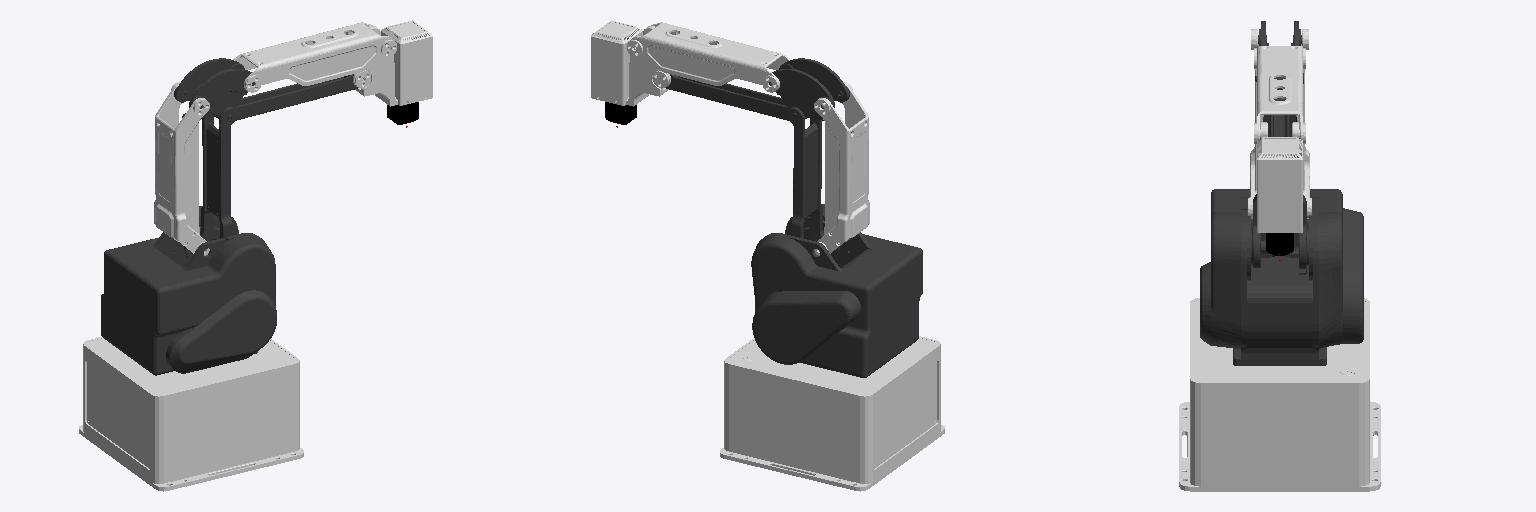
URDF robot description (mg400):
<?xml version="1.0" encoding="utf-8"?>
<!-- This URDF was automatically created by SolidWorks to URDF Exporter! Originally created by [author] ([email redacted]) 
     Commit Version: 1.6.0-1-g15f4949  Build Version: 1.6.7594.29634
     For more information, please see http://wiki.ros.org/sw_urdf_exporter -->
<robot name="mg400">
  <material name="TransparentRed">
    <color rgba="0.9 0 0.2 0.5"/>
  </material>
  <!-- Colors -->
  <material name="DarkGrey">
    <color rgba="0.3 0.3 0.3 1.0"/>
  </material>
  <material name="Grey">
    <color rgba="0.4 0.4 0.4 1.0"/>
  </material>
  <material name="Orange">
    <color rgba="1.0 0.423529411765 0.0392156862745 1.0"/>
  </material>
  <material name="Blue">
    <color rgba="0 0.1 1.0 1.0"/>
  </material>
  <material name="LightGrey">
    <color rgba="0.9 0.9 0.9 1.0"/>
  </material>
  <material name="Red">
    <color rgba="0.9 0 0.2 1.0"/>
  </material>
  <material name="TransparentRed">
    <color rgba="0.9 0 0.2 0.5"/>
  </material>
  <material name="Green">
    <color rgba="0 0.9 0.5 1.0"/>
  </material>
  <material name="Yellow">
    <color rgba="0.7 0.7 0 1.0"/>
  </material>
  <material name="LightBlue">
    <color rgba="0. 0.3 1.0 1.0"/>
  </material>
  <material name="Black">
    <color rgba="0.05 0.05 0.05 1.0"/>
  </material>
  <material name="White">
    <color rgba="1.0 1.0 1.0 1.0" />
  </material>

  
    <link name="base_link">
        <inertial>
            <origin xyz="0.000600637001378879 -2.53487071137343E-07 0.0560927888040551" rpy="0 0 0"/>
            <mass value="3.62164811695094"/>
            <inertia
                    ixx="0.0126582175296405"
                    ixy="6.66832041405407E-08"
                    ixz="-3.52548281362717E-06"
                    iyy="0.0145891535260188"
                    iyz="5.15901657460475E-08"
                    izz="0.0195045116656827"/>
        </inertial>
        <visual>
            <origin xyz="0 0 0" rpy="0 0 0"/>
            <geometry>
                <mesh filename="package://mg400/meshes/base_link.STL"/>
            </geometry>
            <material name="LightGrey"/>

        </visual>
        <collision>
            <origin xyz="0 0 0" rpy="0 0 0"/>
            <geometry>
                <mesh filename="package://mg400/meshes/base_link.STL"/>
            </geometry>
        </collision>
    </link>

    <link name="link1">
        <inertial>
            <origin xyz="-0.0046209286967387 -6.88107982318643E-05 0.0709919358465827" rpy="0 0 0"/>
            <mass value="1.77056222753813"/>
            <inertia
                    ixx="0.00605885293080088"
                    ixy="0.000156081820035162"
                    ixz="-0.00021785654850453"
                    iyy="0.00579381982249127"
                    iyz="6.20876898015621E-05"
                    izz="0.00741058257251941"/>
        </inertial>
        <visual>
            <origin xyz="0 0 0" rpy="0 0 0"/>
            <geometry>
                <mesh filename="package://mg400/meshes/link1.STL"/>
            </geometry>
            <material name="DarkGrey"/>
        </visual>
        <collision>
            <origin xyz="0 0 0" rpy="0 0 0"/>
            <geometry>
                <mesh filename="package://mg400/meshes/link1.STL"/>
            </geometry>
        </collision>
    </link>

    <joint name="j1" type="revolute">
        <origin xyz="-0.00500000000000002 0 0.109" rpy="0 0 0"/>
        <parent link="base_link"/>
        <child link="link1"/>
        <axis xyz="0 0 1"/>
        <limit lower="-3.14" upper="3.14" effort="0" velocity="0"/>
    </joint>

    <link name="link2_1">
        <inertial>
            <origin xyz="-0.00321788524756698 0.0352926570826593 0.0596131328734945" rpy="0 0 0"/>
            <mass value="0.0866115884541459"/>
            <inertia
                    ixx="0.000338551627157209"
                    ixy="-2.78858228577314E-09"
                    ixz="1.05212346076681E-05"
                    iyy="0.000307789653713489"
                    iyz="-1.36109590152488E-06"
                    izz="3.89949940178023E-05"/>
        </inertial>
        <visual>
            <origin xyz="0 0 0" rpy="0 0 0"/>
            <geometry>
                <mesh filename="package://mg400/meshes/link2_1.STL"/>
            </geometry>
            <material name="DarkGrey"/>
        </visual>
        <collision>
            <origin xyz="0 0 0" rpy="0 0 0"/>
            <geometry>
                <mesh filename="package://mg400/meshes/link2_1.STL"/>
            </geometry>
        </collision>
    </link>

    <joint name="j2_1" type="revolute">
        <origin xyz="0.0435007595118091 -0.0357748756218899 0.118995682641123" rpy="0 0 0"/>
        <parent link="link1"/>
        <child link="link2_1"/>
        <axis xyz="0 1 0"/>
        <limit lower="-3.14" upper="3.14" effort="0" velocity="0"/>
    </joint>

    <link name="link3_1">
        <inertial>
            <origin xyz="0.0821679417596488 0.000113044685842874 -0.00333758753063973" rpy="0 0 0"/>
            <mass value="0.0375214831045061"/>
            <inertia
                    ixx="2.54761091812684E-06"
                    ixy="3.73102654491378E-07"
                    ixz="-2.02625705871199E-06"
                    iyy="0.000164234314177935"
                    iyz="-1.44731096825347E-08"
                    izz="0.000164331500854172"/>
        </inertial>
        <visual>
            <origin xyz="0 0 0" rpy="0 0 0"/>
            <geometry>
                <mesh filename="package://mg400/meshes/link3_1.STL"/>
            </geometry>
            <material name="DarkGrey"/>
        </visual>
        <collision>
            <origin xyz="0 0 0" rpy="0 0 0"/>
            <geometry>
                <mesh filename="package://mg400/meshes/link3_1.STL"/>
            </geometry>
        </collision>
    </link>

    <joint name="j3_1" type="revolute">
        <origin xyz="-0.0010512570171516 0.0357748756218898 0.175001164344716" rpy="0 0 0"/>
        <parent link="link2_1"/>
        <child link="link3_1"/>
        <axis xyz="0 1 0"/>
        <limit lower="-3.14" upper="3.14" effort="0" velocity="0"/>
    </joint>

    <link name="link4_1">
        <inertial>
            <origin xyz="0.0387878182928232 0.0170848333998282 -0.0024610990490942" rpy="0 0 0"/>
            <mass value="0.0628979533925801"/>
            <inertia
                    ixx="4.78483605712844E-05"
                    ixy="1.42081909356751E-07"
                    ixz="8.32917079044309E-06"
                    iyy="5.42362047732042E-05"
                    iyz="-2.90608446019989E-08"
                    izz="3.36120409842199E-05"/>
        </inertial>
        <visual>
            <origin xyz="0 0 0" rpy="0 0 0"/>
            <geometry>
                <mesh filename="package://mg400/meshes/link4_1.STL"/>
            </geometry>
            <material name="LightGrey"/>
        </visual>
        <collision>
            <origin xyz="0 0 0" rpy="0 0 0"/>
            <geometry>
                <mesh filename="package://mg400/meshes/link4_1.STL"/>
            </geometry>
        </collision>
    </link>

    <joint name="j4_1" type="revolute">
        <origin xyz="0.174969784055705 -0.0170000000000335 0.00325187137614585" rpy="0 0 0"/>
        <parent link="link3_1"/>
        <child link="link4_1"/>
        <axis xyz="0 1 0"/>
        <limit lower="-3.14" upper="3.14" effort="0" velocity="0"/>
    </joint>

    <link name="link5">
        <inertial>
            <origin xyz="4.24246458685662E-07 3.08507851181768E-14 -0.0349688816440933" rpy="0 0 0"/>
            <mass value="0.0965276919819365"/>
            <inertia
                    ixx="4.98589992160928E-05"
                    ixy="-1.534865545378E-12"
                    ixz="3.46424449605658E-10"
                    iyy="4.98589881725446E-05"
                    iyz="-5.64890953414983E-17"
                    izz="2.130463008359E-05"/>
        </inertial>
        <visual>
            <origin xyz="0 0 0" rpy="0 0 0"/>
            <geometry>
                <mesh filename="package://mg400/meshes/link5.STL"/>
            </geometry>
            <material name="LightGrey"/>
        </visual>
        <collision>
            <origin xyz="0 0 0" rpy="0 0 0"/>
            <geometry>
                <mesh filename="package://mg400/meshes/link5.STL"/>
            </geometry>
        </collision>
    </link>

    <joint name="j5" type="revolute">
        <origin xyz="0.0659996239003897 0.0170000000000371 0.031000800715573" rpy="0 0 0"/>
        <parent link="link4_1"/>
        <child link="link5"/>
        <axis xyz="-1.19408295462994E-05 0 0.999999999928708"/>
        <limit lower="-3.14" upper="3.14" effort="0" velocity="0"/>
    </joint>

    <link name="link2_2">
        <inertial>
            <origin xyz="-0.0201111131723385 0.0304999635268521 0.073632809340276" rpy="0 0 0"/>
            <mass value="0.0662546292985346"/>
            <inertia
                    ixx="0.000218973873589181"
                    ixy="3.0147933007673E-10"
                    ixz="2.51402553227571E-06"
                    iyy="0.000200510070261609"
                    iyz="-1.41837669904595E-09"
                    izz="3.74316777806776E-05"/>
        </inertial>
        <visual>
            <origin xyz="0 0 0" rpy="0 0 0"/>
            <geometry>
                <mesh filename="package://mg400/meshes/link2_2.STL"/>
            </geometry>
            <material name="LightGrey"/>
        </visual>
        <collision>
            <origin xyz="0 0 0" rpy="0 0 0"/>
            <geometry>
                <mesh filename="package://mg400/meshes/link2_2.STL"/>
            </geometry>
        </collision>
    </link>

    <joint name="j2_2" type="revolute">
        <origin xyz="0.00452885682964267 -0.0305 0.141500000000001" rpy="0 0 0"/>
        <parent link="link1"/>
        <child link="link2_2"/>
        <axis xyz="0 1 0"/>
        <limit lower="-3.14" upper="3.14" effort="0" velocity="0"/>
    </joint>

    <link name="link3_2">
        <inertial>
            <origin xyz="0.0338566736074436 0.0240208873857428 0.00452229895926692" rpy="0 0 0"/>
            <mass value="0.0366692789294813"/>
            <inertia
                    ixx="7.24011830695354E-06"
                    ixy="7.93542746250724E-10"
                    ixz="-1.69163254472566E-06"
                    iyy="2.34967008246727E-05"
                    iyz="4.55507111386579E-10"
                    izz="1.66831643179488E-05"/>
        </inertial>
        <visual>
            <origin xyz="0 0 0" rpy="0 0 0"/>
            <geometry>
                <mesh filename="package://mg400/meshes/link3_2.STL"/>
            </geometry>
            <material name="DarkGrey"/>
        </visual>
        <collision>
            <origin xyz="0 0 0" rpy="0 0 0"/>
            <geometry>
                <mesh filename="package://mg400/meshes/link3_2.STL"/>
            </geometry>
        </collision>
    </link>

    <joint name="j3_2" type="revolute">
        <origin xyz="-0.00105049750546494 0.00649999999999986 0.174996846985851" rpy="0 0 0"/>
        <parent link="link2_2"/>
        <child link="link3_2"/>
        <axis xyz="0 1 0"/>
        <limit lower="-3.14" upper="3.14" effort="0" velocity="0"/>
    </joint>

    <link name="link4_2">
        <inertial>
            <origin xyz="0.0876391591012518 0.023499867452275 0.00831492252441945" rpy="0 0 0"/>
            <mass value="0.0453569016333092"/>
            <inertia
                    ixx="2.00037596001325E-05"
                    ixy="3.34474706250153E-09"
                    ixz="2.17594982354756E-07"
                    iyy="0.000132049841023893"
                    iyz="5.36978669669685E-10"
                    izz="0.000141813978894428"/>
        </inertial>
        <visual>
            <origin xyz="0 0 0" rpy="0 0 0"/>
            <geometry>
                <mesh filename="package://mg400/meshes/link4_2.STL"/>
            </geometry>
            <material name="LightGrey"/>
        </visual>
        <collision>
            <origin xyz="0 0 0" rpy="0 0 0"/>
            <geometry>
                <mesh filename="package://mg400/meshes/link4_2.STL"/>
            </geometry>
        </collision>
    </link>

    <joint name="j4_2" type="revolute">
        <origin xyz="0.0678965856063864 0.000500000000000073 0.0119719999403219" rpy="0 0 0"/>
        <parent link="link3_2"/>
        <child link="link4_2"/>
        <axis xyz="0 1 0"/>
        <limit lower="-3.14" upper="3.14" effort="0" velocity="0"/>
    </joint>

  <!--dummy joint-->
  <joint name="ee_joint" type="fixed">
    <parent link="link5"/>
    <child link="ee_link"/>
    <origin xyz="0 0 -0.065" rpy="0 0 0"/>
  </joint>

  <link name="ee_link">
    <visual>
      <origin rpy="0 0 0" xyz="0 0 0"/>
      <geometry>
        <sphere radius="0.005"/>
      </geometry>
        <material name="Red"/>
    </visual>
    <collision>
      <geometry>
        <sphere radius="0.001"/>
      </geometry>
      <origin rpy="0 0 0" xyz="0.0 0 0"/>
    </collision>
    <inertial>
      <mass value="0.0"/>
      <origin rpy="-3.14 0.0 1.57" xyz="0.0 0.0 0.0"/>
      <inertia ixx="0.001" ixy="0.0" ixz="0.0" iyy="0.001" iyz="0.0" izz="0.001"/>
    </inertial>
  </link>

      <!-- TacTip -->



  <link
    name="digitac_body_link">
  <inertial>
      <origin
        xyz="0.0044483897843889 -0.0137570316187898 -1.33478473442024E-08+0.035"
        rpy="0 0 0" />
      <mass
        value="0.00791827593084163" />
      <inertia
        ixx="7.86145751817283E-07"
        ixy="-4.85149902505629E-09"
        ixz="4.89421524982813E-12"
        iyy="1.59818901807298E-06"
        iyz="-2.18755873901251E-12"
        izz="1.06961344577448E-06" />
    </inertial>
    <visual>
      <origin
        xyz="0 0 0.035"
        rpy="0 0 0" />
      <geometry>
        <mesh
          filename="../digitac/standard_digitac/digitac_asmb/meshes/digitac_body.STL" />
      </geometry>
      <material
        name="body_color">
        <color
          rgba="0.0 0.0 0.0 1" />
      </material>
    </visual>
    <collision>
      <origin
        xyz="0 0 0.035"
        rpy="0 0 0" />
      <geometry>
        <mesh
          filename="../digitac/standard_digitac/digitac_asmb/meshes/digitac_body.STL" />
      </geometry>
    </collision>
  </link>


      <joint name="tactip_ee_joint" type="fixed">
        <parent link="ee_link"/>
        <child link="digitac_body_link"/>
        <origin rpy="-3.14 0.0 3.14" xyz="0.0 0.0 0.0"/>
      </joint>


  <link
    name="digitac_tip_link">


        <inertial>
      <origin
        xyz="1.95689617055233E-05 -0.00418318281817305 -0.00513072481258713-0.035"
        rpy="0 0 0" />
      <mass
        value="0.000211579321175967" />
      <inertia
        ixx="1.6421406108058E-08"
        ixy="-3.59682768116548E-11"
        ixz="8.26721658003392E-12"
        iyy="1.10821033019274E-08"
        iyz="-1.94916165896316E-10"
        izz="2.23470337659004E-08" />
    </inertial>
    <visual>
      <origin
        xyz="0 0 -0.035"
        rpy="0 0 0" />
      <geometry>
        <mesh
          filename="../digitac/standard_digitac/digitac_asmb_hollow/meshes/digitac_core.STL" />
      </geometry>
      <material
        name="digitac_skin">
        <color
          rgba="1.0 1.0 1.0 1" />
      </material>
    </visual>
    <collision>
      <origin
        xyz="0 0 -0.035"
        rpy="0 0 0" />
      <geometry>
        <mesh
          filename="../digitac/standard_digitac/digitac_asmb/meshes/digitac_core.STL" />
      </geometry>
    </collision>
  </link>


  <joint
    name="tactip_tip_to_body"
    type="fixed">
    <origin
      xyz="0 0 0"
      rpy="3.14159265358979 0 -1.5707963267949" />
    <parent
      link="digitac_body_link" />
    <child
      link="digitac_tip_link" />
    <axis
      xyz="0 0 0" />
  </joint>


      <!-- TCP -->
      <link name="tcp_link">
        <visual>
          <origin rpy="0 0 0" xyz="0 0 0"/>
          <geometry>
            <sphere radius="0.001"/>
          </geometry>
           <material name="TransparentRed"/>
        </visual>
        <inertial>
          <mass value="0.0"/>
          <origin rpy="0.0 0.0 1.57" xyz="0.0 0.0 0.0"/>
          <inertia ixx="1.0" ixy="0.0" ixz="0.0" iyy="1.0" iyz="0.0" izz="1.0"/>
        </inertial>
      </link>

      <joint name="tcp_joint" type="fixed">
        <parent link="digitac_body_link"/>
        <child link="tcp_link"/>
        <origin rpy="0 0 0" xyz="0.0007 0.0 0.046"/>
        <!-- <origin rpy="0 0 0" xyz="0.00145 0.0 0.025"/> -->
        <!-- <origin rpy="0 0 0" xyz="0.0018 0.0 0.025"/> -->
      </joint>



  <!-- <link
    name="sq_link">
    <inertial>
      <origin
        xyz="-0.00535000000000003 0.00799999999999999 5.00000000005617E-06-0.035"
        rpy="0 0 0" />
      <mass
        value="1.59999999999993E-07" />
      <inertia
        ixx="5.33346666666645E-14"
        ixy="-1.34013559776601E-30"
        ixz="4.41903370583012E-33"
        iyy="5.33346666666645E-14"
        iyz="-3.65677197028787E-28"
        izz="1.06666666666662E-13" />
    </inertial>
    <visual>
      <origin
        xyz=" +0.22  +0.22  +0.22"
        rpy="0 0 0" />
      <geometry>
        <mesh
          filename="../digitac/standard_digitac/digitac_asmb_skin_with_marks/meshes/sq_link.STL" />
      </geometry>
      <material
        name="Green">
        <color
          rgba="0.9 0.9 0.9 0" />
      </material>
    </visual>
    <collision>
      <origin
        xyz=" +0.22  +0.22 +0.22"
        rpy="0 0 0" />
      <geometry>
        <mesh
          filename="../digitac/standard_digitac/digitac_asmb_skin_with_marks/meshes/sq_link.STL" />
      </geometry>
    </collision>
  </link>


  <joint
    name="skin_sq_joint"
    type="fixed">
    <origin
      xyz="-0.00535000000000005 0.0132650762017464 -0.00645000000000009"
      rpy="0 0 3.14159265358979" />
    <parent
      link="digitac_tip_link" />
    <child
      link="sq_link" />
    <axis
      xyz="0 0 0" />
  </joint> -->


</robot>

--- What the picture shows (computed from the rendered views, not written in the file) ---
The picture shows the robot from 3 angles, left to right: view 1: azimuth 30°, elevation 25°; view 2: azimuth 150°, elevation 25°; view 3: azimuth 270°, elevation 25°; orthographic projection.
Robot: mg400 — 13 links, 12 joints (8 revolute, 4 fixed); root link base_link; default pose: all joints at 0.
Links seen in each view (by area): view 1: base_link, link1, link2_2, link4_2, link4_1, link2_1, link3_2, link3_1, digitac_body_link; view 2: base_link, link1, link2_2, link4_2, link4_1, link2_1, link3_2, link3_1, digitac_body_link; view 3: base_link, link1, link4_1, link4_2, link2_2, link2_1, digitac_body_link.
Boxes of the visible links, x1=… form: base_link: x1=79, y1=337, x2=303, y2=491; link1: x1=101, y1=206, x2=276, y2=375; link2_2: x1=154, y1=82, x2=209, y2=255; link4_2: x1=233, y1=22, x2=396, y2=92; link4_1: x1=353, y1=20, x2=432, y2=106; link2_1: x1=200, y1=107, x2=236, y2=241; link3_2: x1=174, y1=58, x2=254, y2=118; link3_1: x1=182, y1=74, x2=357, y2=120; digitac_body_link: x1=387, y1=102, x2=418, y2=124; base_link: x1=720, y1=336, x2=944, y2=491; link1: x1=751, y1=204, x2=922, y2=377; link2_2: x1=814, y1=82, x2=869, y2=255; link4_2: x1=627, y1=22, x2=790, y2=92; link4_1: x1=591, y1=20, x2=670, y2=106; link2_1: x1=787, y1=107, x2=823, y2=241; link3_2: x1=769, y1=58, x2=849, y2=118; link3_1: x1=666, y1=74, x2=823, y2=120; digitac_body_link: x1=605, y1=102, x2=636, y2=124; base_link: x1=1179, y1=298, x2=1380, y2=491; link1: x1=1200, y1=189, x2=1363, y2=365; link4_1: x1=1257, y1=122, x2=1302, y2=232; link4_2: x1=1254, y1=46, x2=1305, y2=143; link2_2: x1=1248, y1=29, x2=1311, y2=218; link2_1: x1=1251, y1=73, x2=1308, y2=274; digitac_body_link: x1=1266, y1=233, x2=1293, y2=255.
Size in the robot's own frame: 0.3954 by 0.19 by 0.4597 metres.
Meshes: 11 distinct files referenced, 10 mesh visuals loaded (10 binary STL); not drawn: 1 (reference not matched to a file when rendering).